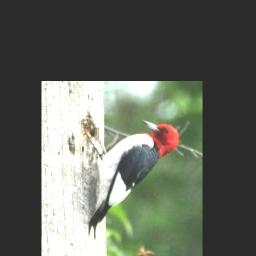Woodpecker: (89, 119, 180, 237)
